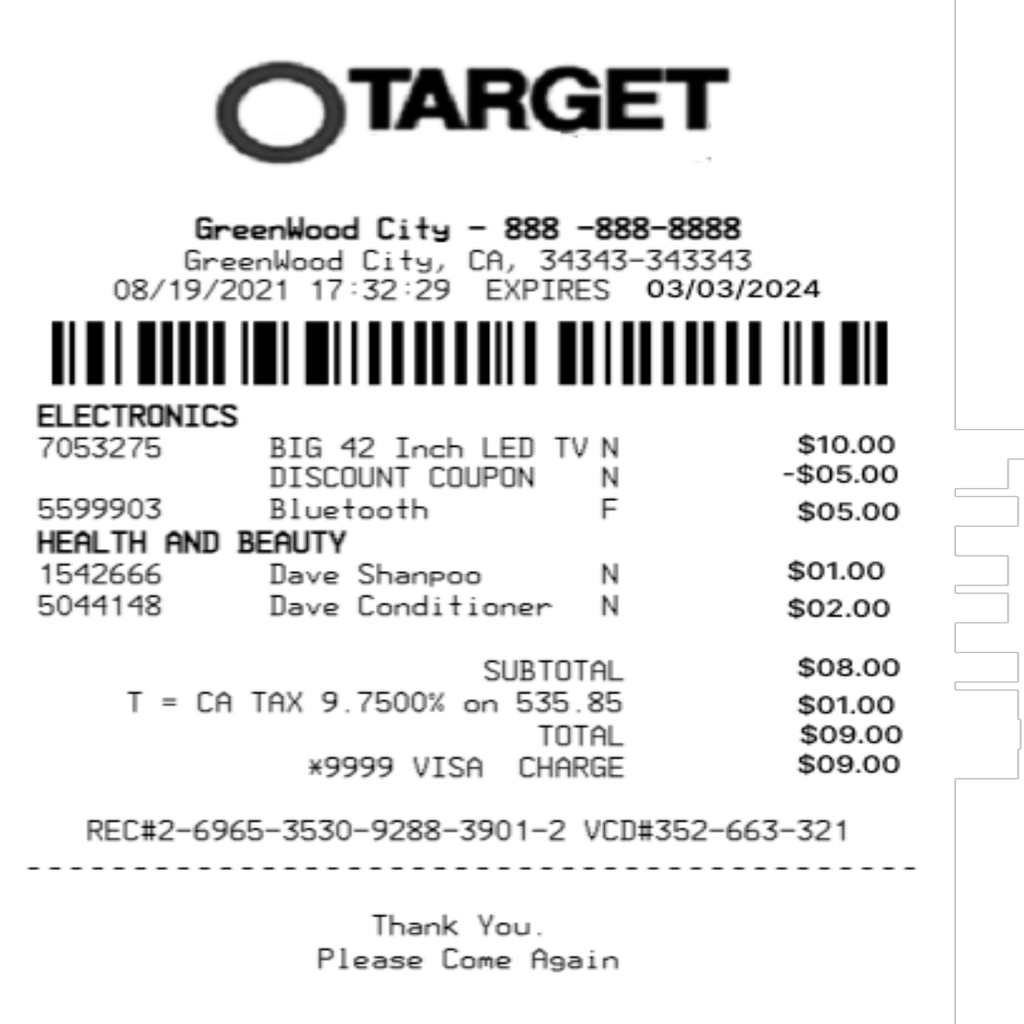recipt: (2, 0, 951, 1022)
